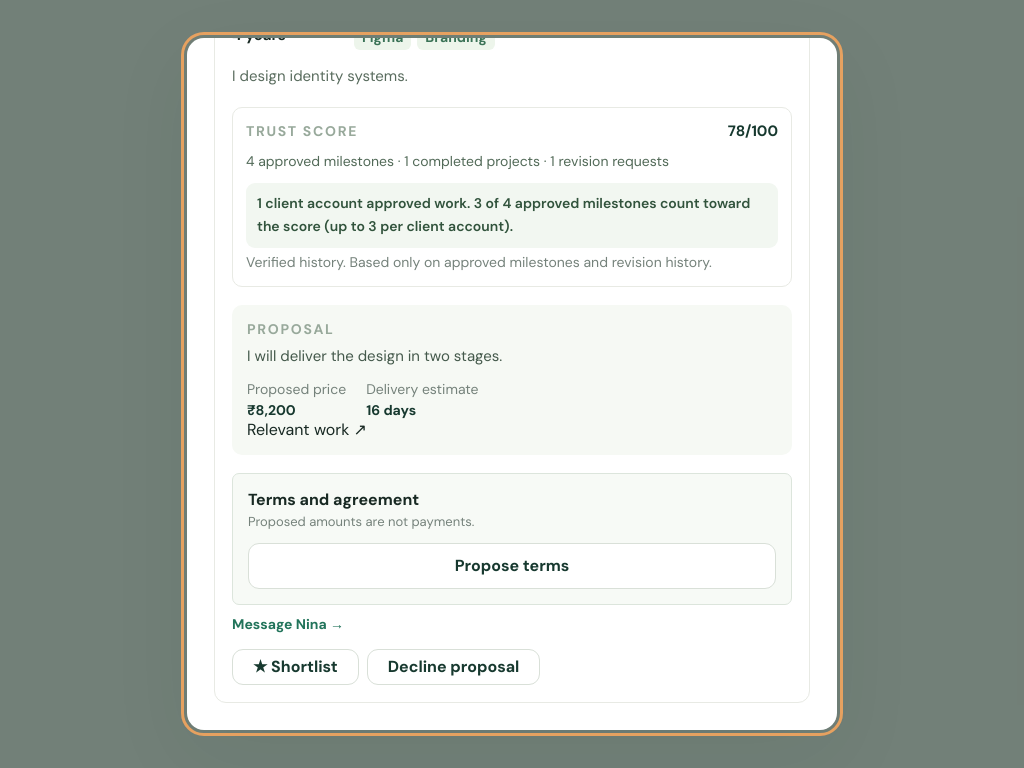
client can compare, shortlist and start a structured offer for a pending applicant
This screenshot has width=1024, height=768.
(page scrolled)
Check: the text "78/100" is shown, box [728,121,778,141]
Check: the text "1 client account approved work" shows "3 of 4 approved milestones count", box [246,183,778,248]
Click the button "★ Shortlist".
click(295, 667)  # box [232,649,359,685]
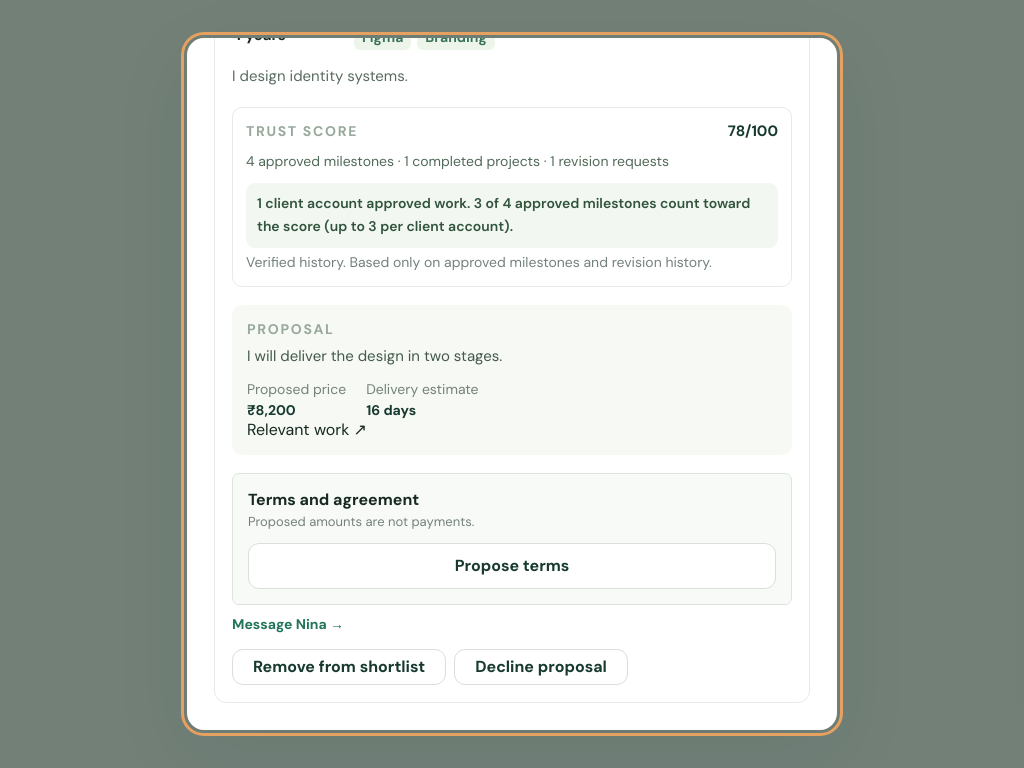
Check: the button "Propose terms" is shown, box [248,543,776,589]
Check: the button "Remove from shortlist" is shown, box [232,649,446,685]
